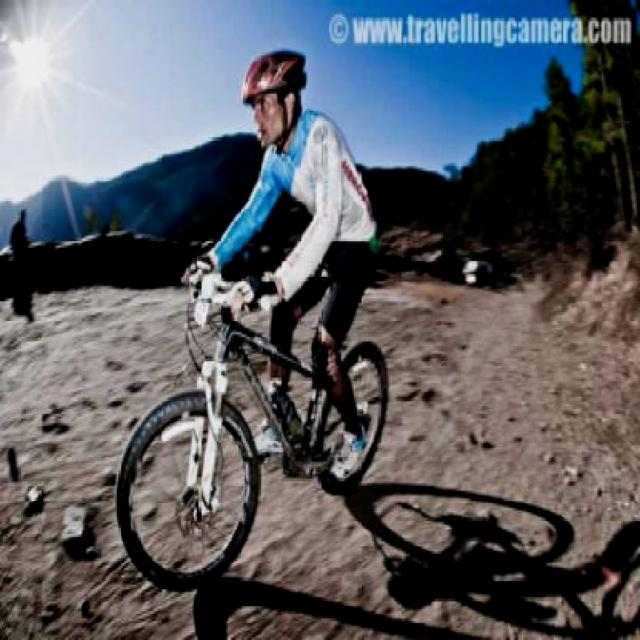With Helmet: (240, 43, 308, 135)
